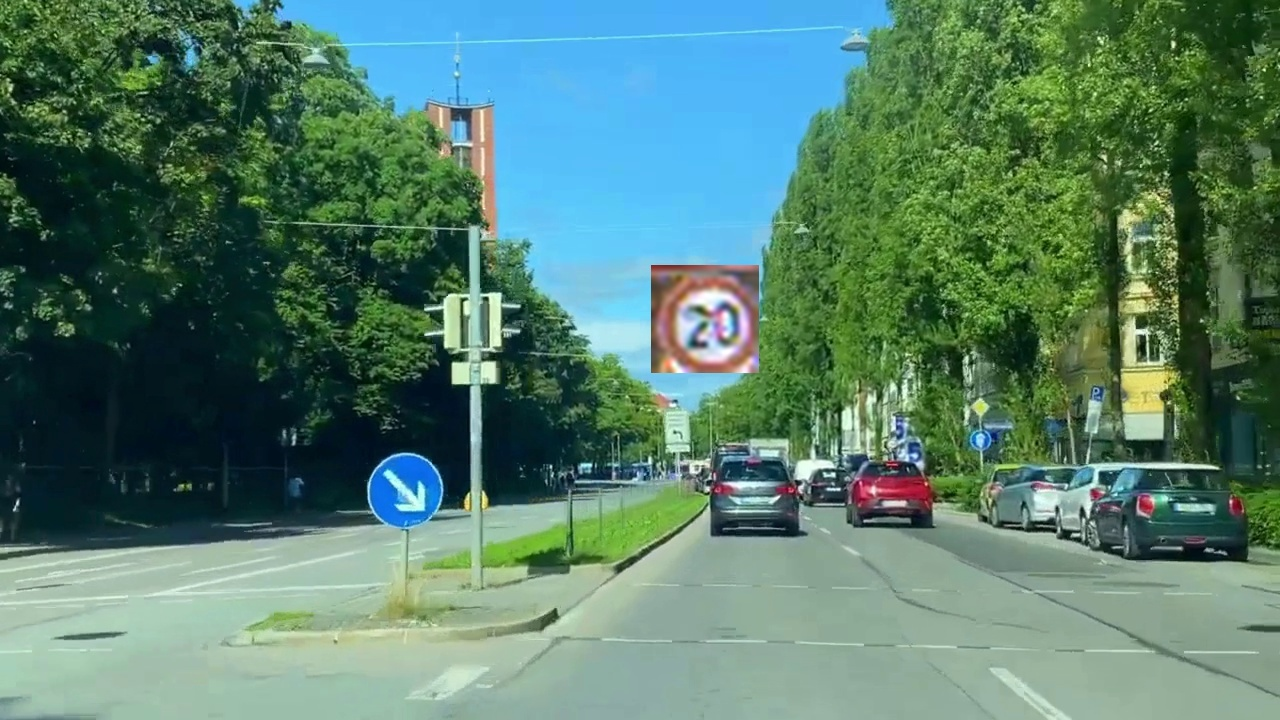Speed 20: (651, 265, 759, 373)
